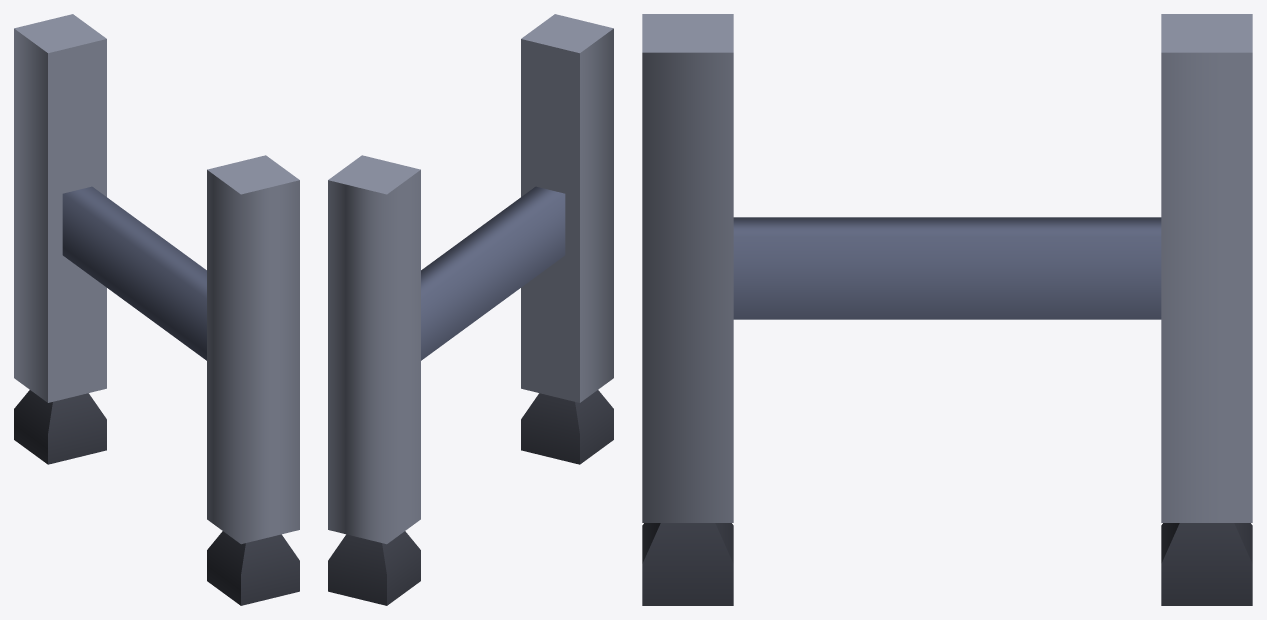
File: StructureMedium-transformed.glb
3 views of the same model, side by side, from view 1: azimuth 30°, elevation 25°; view 2: azimuth 150°, elevation 25°; view 3: azimuth 270°, elevation 25° (orthographic). The views are drawn at different scales.
Parts seen in each view (by area): view 1: structure-medium; view 2: structure-medium; view 3: structure-medium.
Boxes of the visible parts, box(x1,y1,x2,y2) form: structure-medium: box(14, 14, 299, 605); structure-medium: box(328, 14, 613, 605); structure-medium: box(642, 14, 1252, 605).
Size of the model in its own units: 0.15 by 1 by 1.
